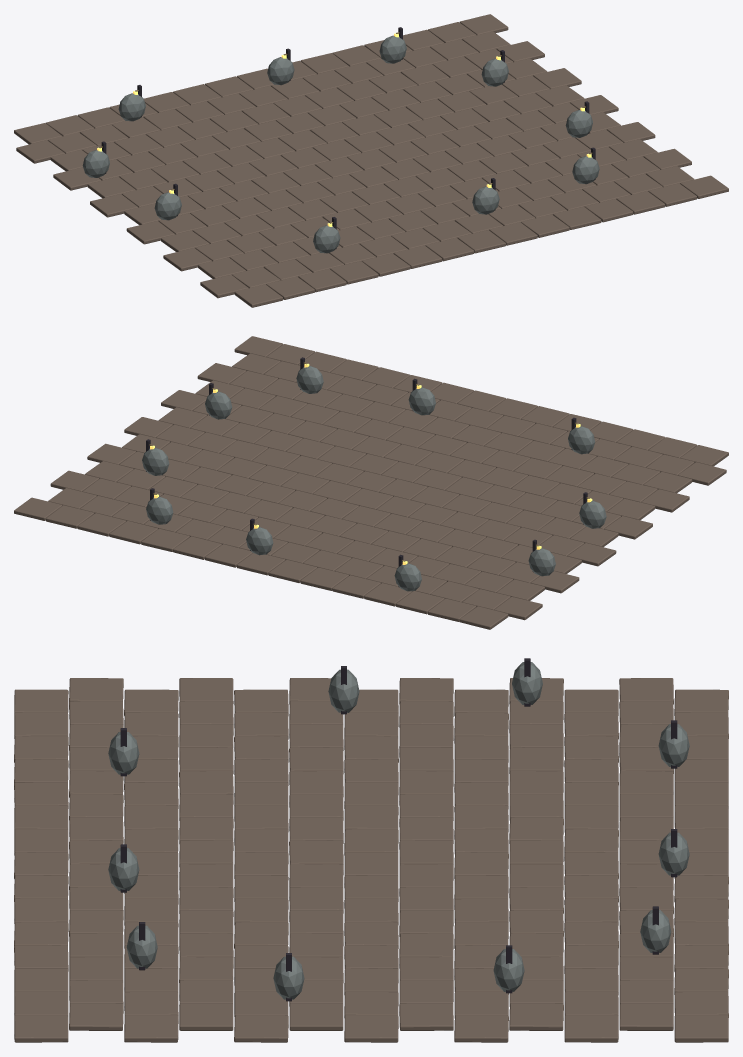
File: forgotten_mine_hunt.glb
3 views of the same model, one above another, from view 1: azimuth 30°, elevation 25°; view 2: azimuth 150°, elevation 25°; view 3: azimuth 270°, elevation 25° (orthographic). The views are drawn at different scales.
Visible parts, largest first — view 1: forgotten_mine_hunt Geometry; view 2: forgotten_mine_hunt Geometry; view 3: forgotten_mine_hunt Geometry.
Boxes of the visible parts, x1,y1,x2,y2 form: forgotten_mine_hunt Geometry: (14,14,728,307); forgotten_mine_hunt Geometry: (14,336,728,629); forgotten_mine_hunt Geometry: (14,658,728,1042).
Size of the model in its own units: 46.48 by 3.14 by 38.98.
